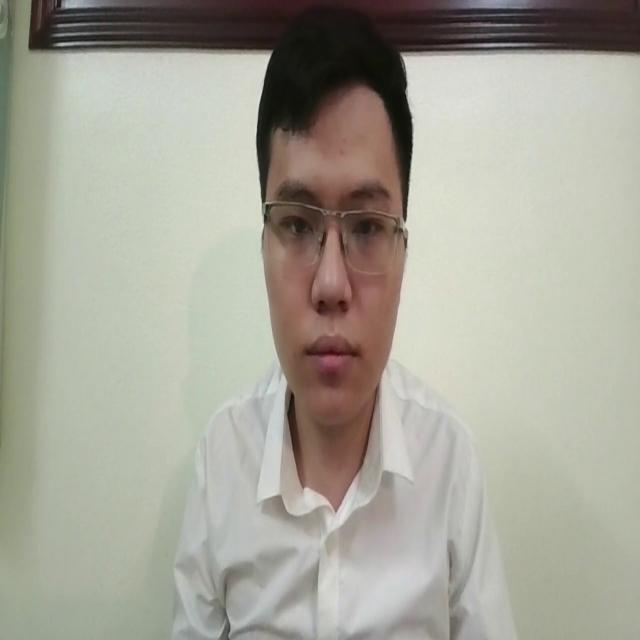student: (170, 9, 514, 640)
